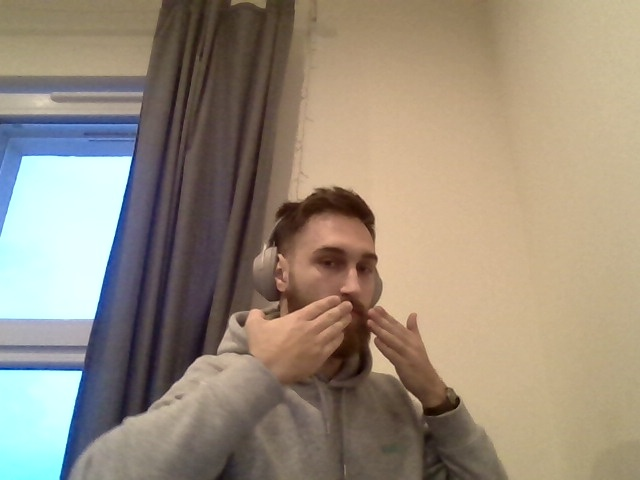ThankYou: (244, 295, 434, 398)
